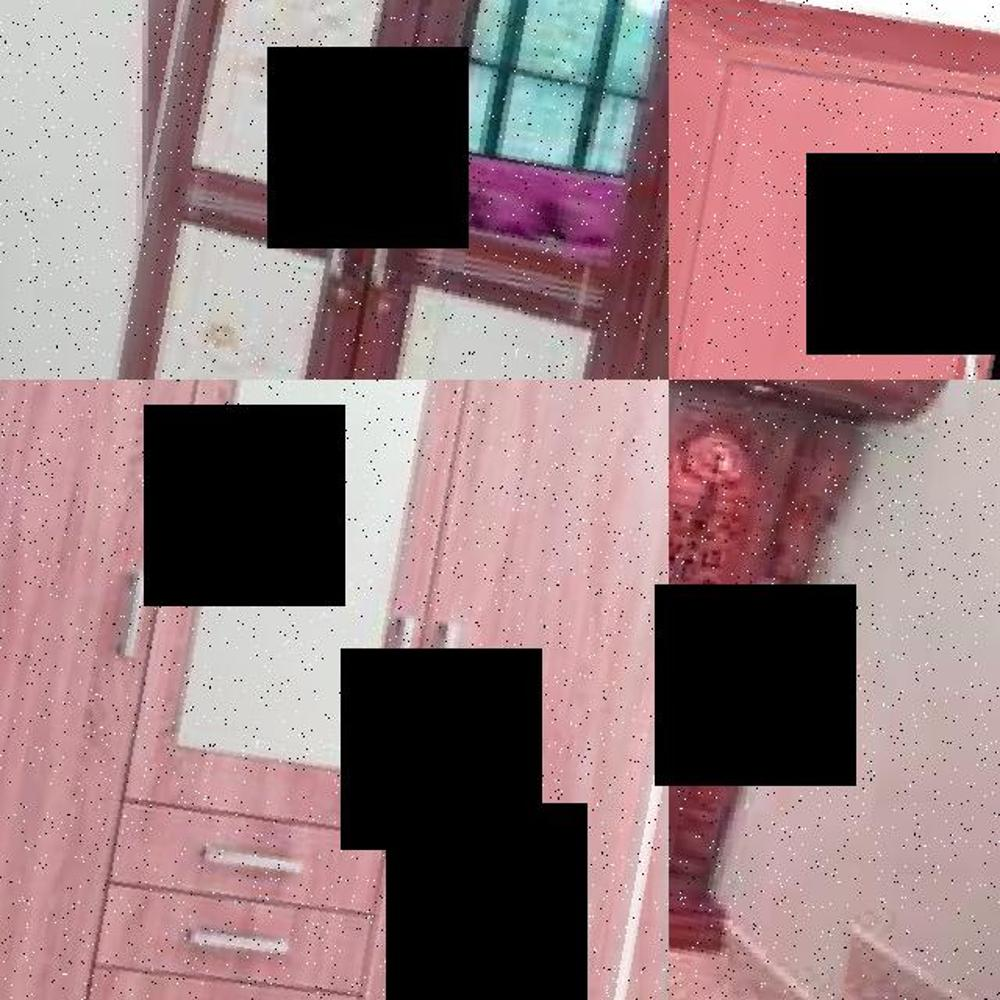cabinet: (0, 380, 669, 1000), (97, 0, 669, 380), (669, 380, 949, 944), (669, 0, 1000, 380)
